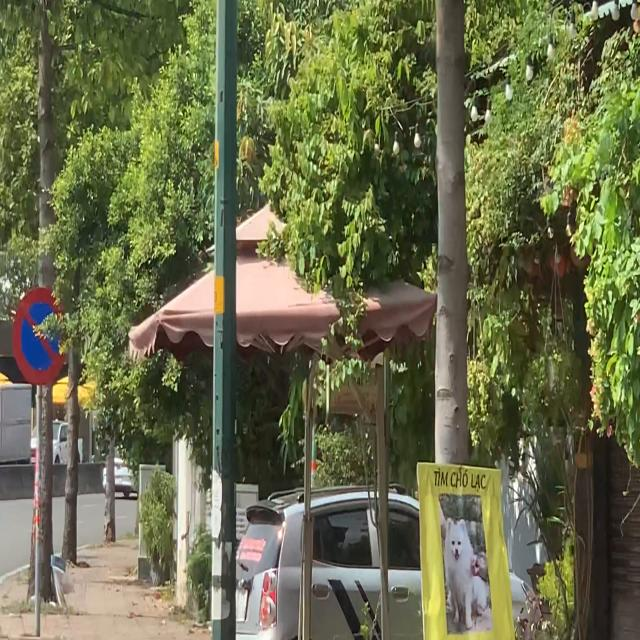Cam do: (12, 287, 67, 385)
